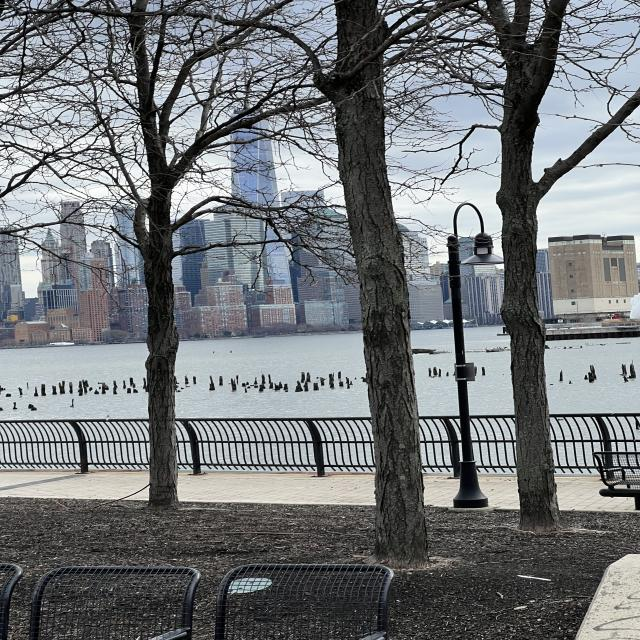WTC: (229, 111, 279, 205)
